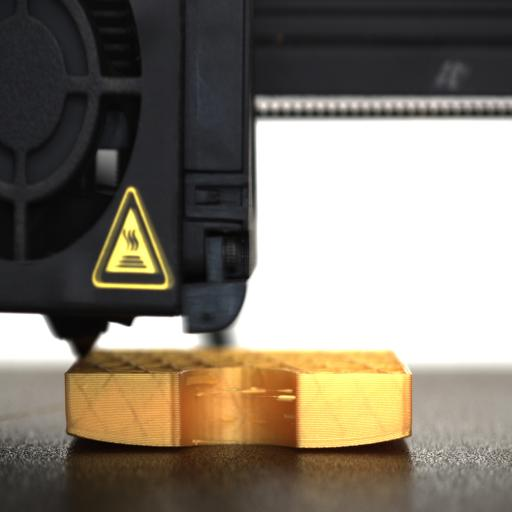warp: (316, 428, 416, 450), (63, 432, 189, 448)
